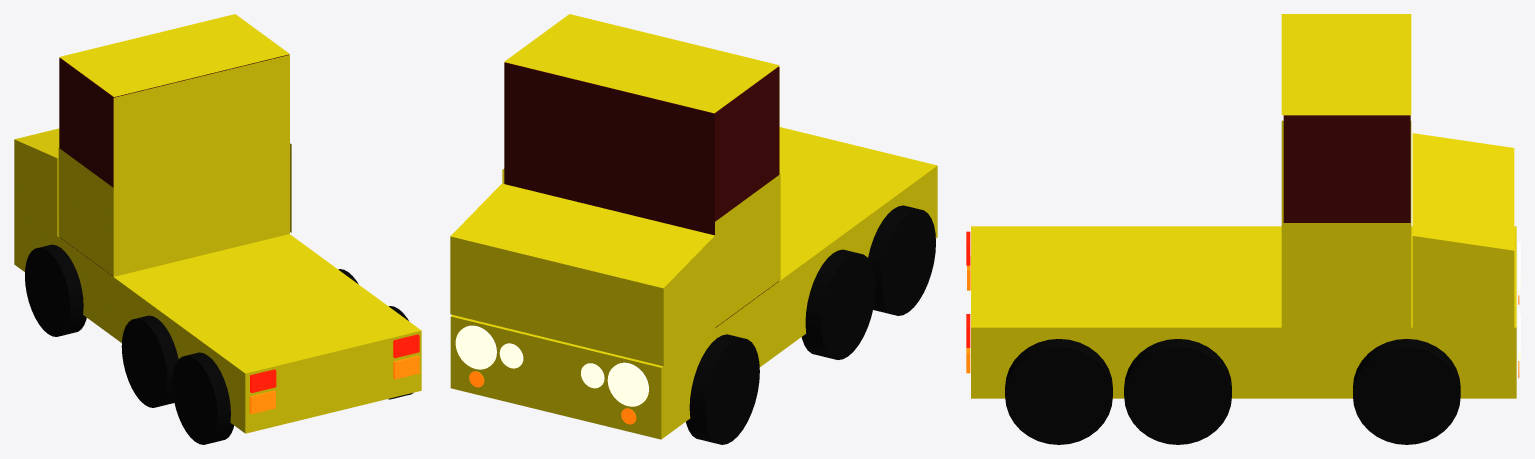
The model's file is new truck 3.fbx.
The picture shows the model from 3 angles, left to right: view 1: azimuth 30°, elevation 25°; view 2: azimuth 150°, elevation 25°; view 3: azimuth 270°, elevation 25°; orthographic projection. The views are drawn at different scales.
Parts seen in each view (by area): view 1: Cube.002, Plane.006, Plane.005, Cube.004, Plane.008, Circle.012, Circle.010, Circle.014, Plane.009, Plane.011, Plane.012, Plane.013 (+1 smaller); view 2: Plane.009, Cube.002, Cube.004, Plane.005, Plane.008, Circle.014, Circle.010, Circle.012, Cube.003, Circle.018, Circle.019, Circle.022 (+1 smaller); view 3: Cube.002, Plane.009, Plane.007, Cube.004, Plane.005, Circle.011, Circle.015, Circle.013.
Boxes of the visible parts, x1=… form: Cube.002: x1=14, y1=205, x2=421, y2=433; Plane.006: x1=113, y1=55, x2=289, y2=276; Plane.005: x1=59, y1=14, x2=289, y2=96; Cube.004: x1=59, y1=54, x2=289, y2=187; Plane.008: x1=58, y1=148, x2=113, y2=276; Circle.012: x1=172, y1=352, x2=233, y2=444; Circle.010: x1=25, y1=244, x2=86, y2=336; Circle.014: x1=121, y1=315, x2=178, y2=407; Plane.009: x1=14, y1=128, x2=59, y2=235; Plane.011: x1=393, y1=334, x2=419, y2=358; Plane.012: x1=249, y1=390, x2=275, y2=414; Plane.013: x1=393, y1=355, x2=419, y2=379; Plane.009: x1=450, y1=183, x2=714, y2=366; Cube.002: x1=450, y1=127, x2=937, y2=439; Cube.004: x1=504, y1=62, x2=779, y2=220; Plane.005: x1=504, y1=14, x2=779, y2=113; Plane.008: x1=715, y1=174, x2=780, y2=327; Circle.014: x1=801, y1=249, x2=875, y2=359; Circle.010: x1=686, y1=334, x2=759, y2=444; Circle.012: x1=868, y1=205, x2=935, y2=315; Cube.003: x1=504, y1=169, x2=778, y2=327; Circle.018: x1=455, y1=325, x2=496, y2=369; Circle.019: x1=607, y1=362, x2=648, y2=406; Circle.022: x1=499, y1=343, x2=523, y2=368; Cube.002: x1=971, y1=226, x2=1516, y2=398; Plane.009: x1=1412, y1=133, x2=1514, y2=327; Plane.007: x1=1281, y1=223, x2=1411, y2=327; Cube.004: x1=1283, y1=115, x2=1410, y2=222; Plane.005: x1=1281, y1=14, x2=1411, y2=115; Circle.011: x1=1353, y1=339, x2=1460, y2=444; Circle.015: x1=1124, y1=339, x2=1231, y2=444; Circle.013: x1=1005, y1=339, x2=1112, y2=444.
Size of the model in its own units: 341 by 436 by 681.
